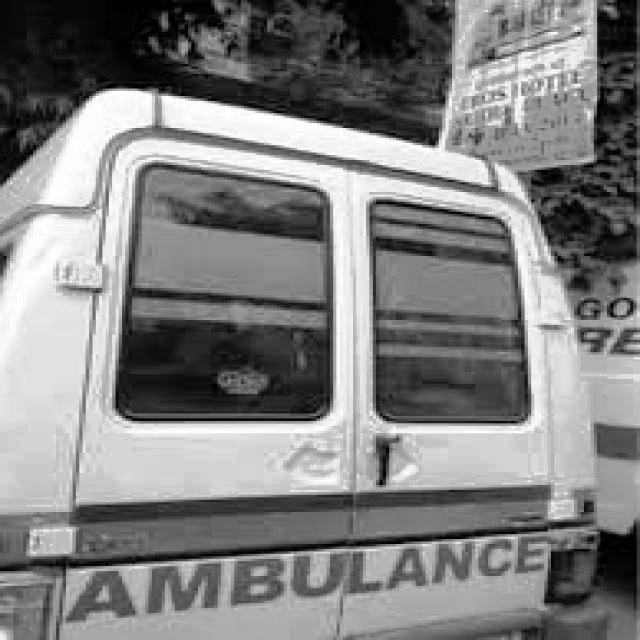LCV: (0, 90, 603, 632)
